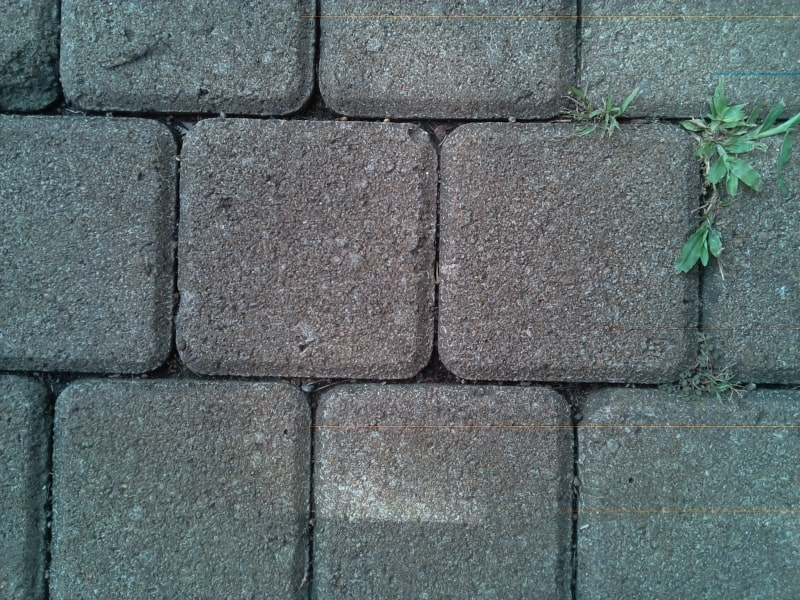Weed: (688, 93, 795, 192), (565, 83, 638, 136), (673, 352, 755, 399), (682, 195, 726, 270)
